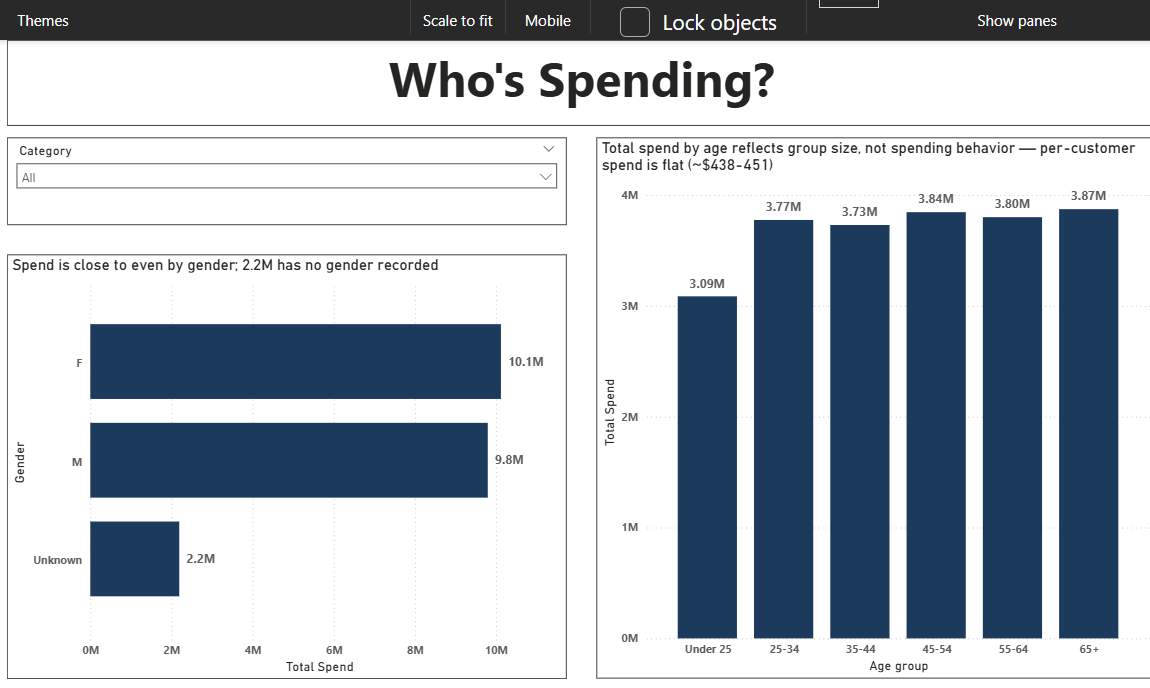

This screenshot's page, from the dashboard's own definition file:
{"tool":"powerbi","page":{"name":"Page 2","canvas":[1280,720],"ordinal":1},"visuals":[{"type":"clusteredColumnChart","title":"Total spend by age reflects group size, not spending behavior — per-customer spend is flat (~$438-451)","fields":{"Category":["Transactions.Age group"],"Y":["Transactions.Total Spend"]},"box":[661.4,107.7,618,597.2],"z":0},{"type":"barChart","title":"Spend is close to even by gender; 2.2M has no gender recorded","fields":{"Category":["Transactions.Gender"],"Y":["Transactions.Total Spend"]},"box":[9.4,236.2,618,468.7],"z":1000},{"type":"slicer","fields":{"Values":["Transactions.Category"]},"box":[9.4,107.7,618,96.4],"z":2000},{"type":"textbox","box":[9.4,0,1269.9,94.5],"z":3000}]}

Visuals, with their boxes on the page's 1280x720 design canvas (x1, y1, x2, y2). These are canvas units, not pixel positions in the 1150x688 screenshot, which may show the page scaled, cropped or inside an application window:
"Total spend by age reflects group size, not spending behavior — per-customer spend is flat (~$438-451)" clusteredColumnChart: 661 108 1279 705
"Spend is close to even by gender; 2.2M has no gender recorded" barChart: 9 236 627 705
slicer - Transactions.Category: 9 108 627 204
textbox: 9 0 1279 94
